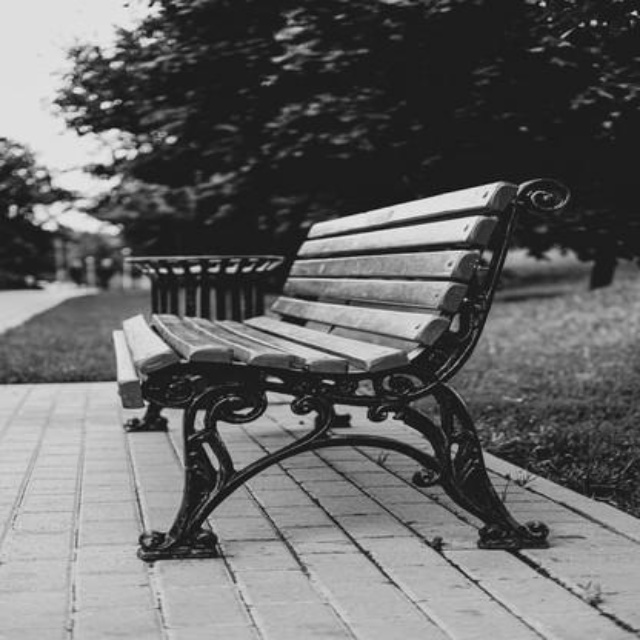obstacle: (118, 166, 582, 571)
